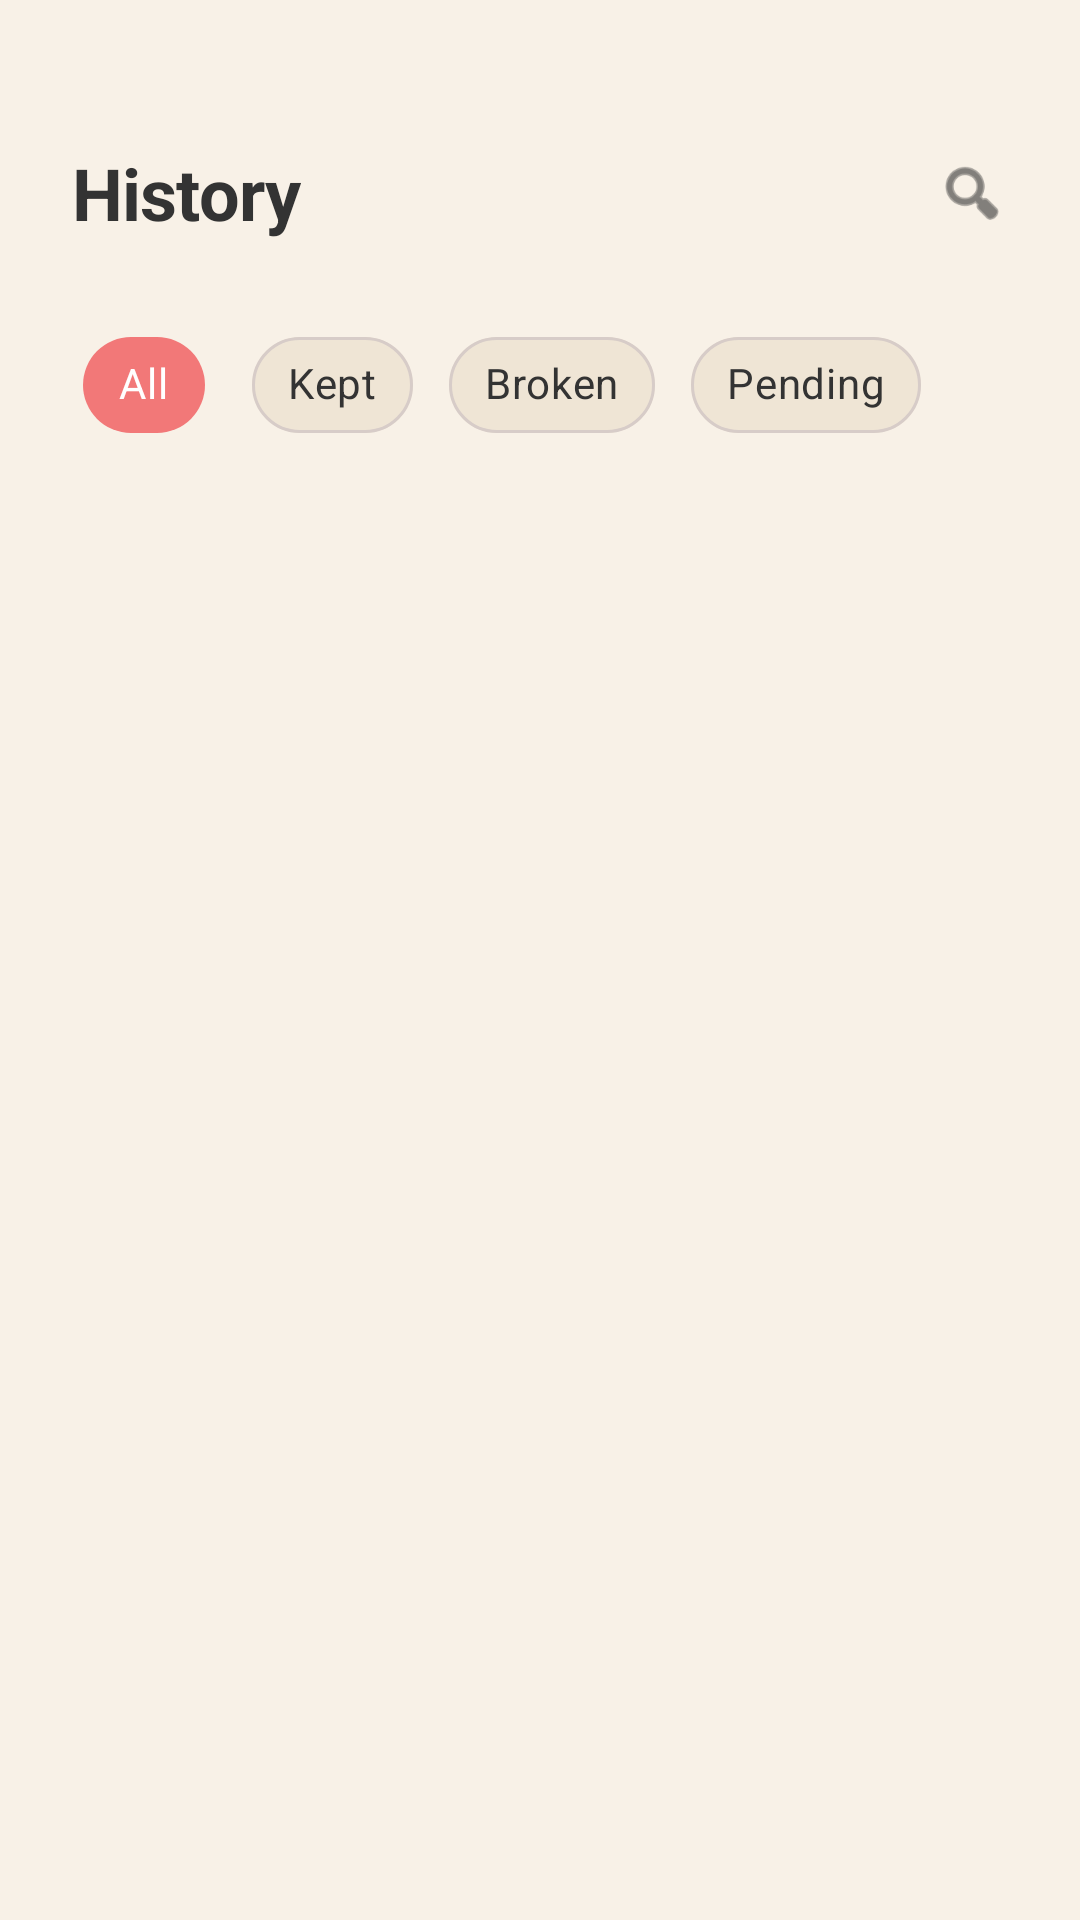

Icon bounding boxes for this 1080*1920 phone screenshot, format BBox(x1, y1, x2, y2):
Search: BBox(945, 167, 999, 220)
